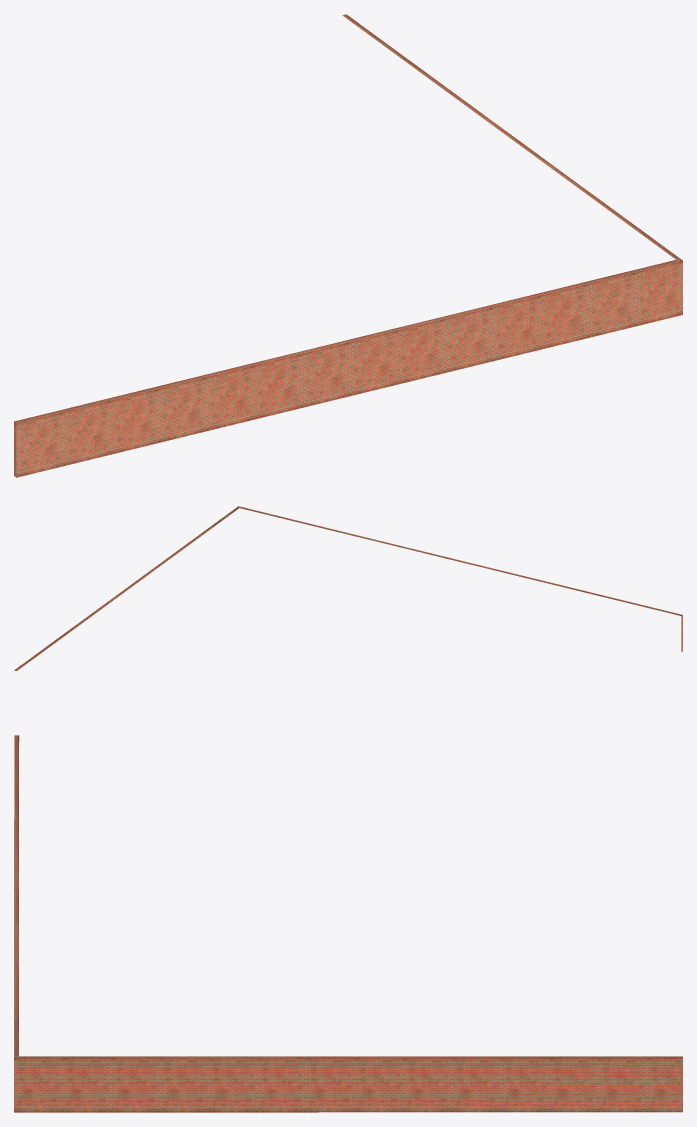
The model's file is BRCIKWALL02.glb.
3 renders of one model, top to bottom at view 1: azimuth 30°, elevation 25°; view 2: azimuth 150°, elevation 25°; view 3: azimuth 270°, elevation 25°, orthographic. The views are drawn at different scales.
Parts seen in each view (by area): view 1: BRCIKWALL02; view 2: BRCIKWALL02; view 3: BRCIKWALL02.
Boxes of the visible parts, x1,y1,x2,y2 form: BRCIKWALL02: [14, 14, 682, 477]; BRCIKWALL02: [14, 506, 682, 670]; BRCIKWALL02: [14, 735, 682, 1112].
Size of the model in its own units: 10026 by 787 by 8768.
1 material, 1 textured.
